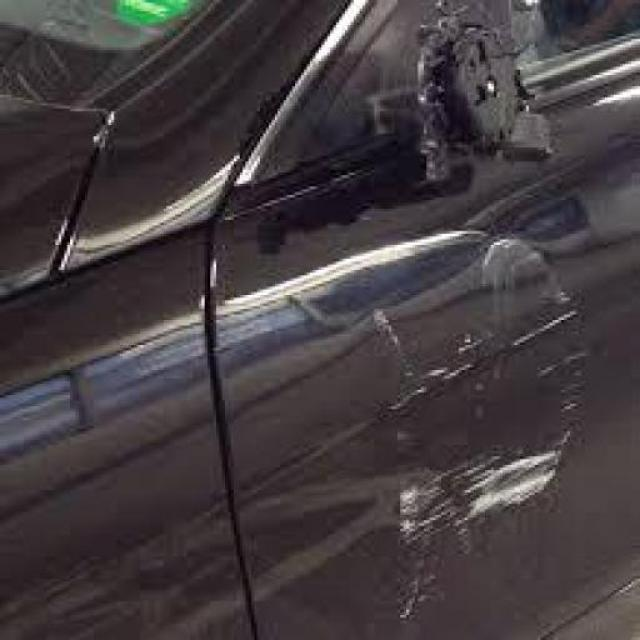missing: (393, 7, 575, 186)
scratch: (360, 232, 607, 611)
